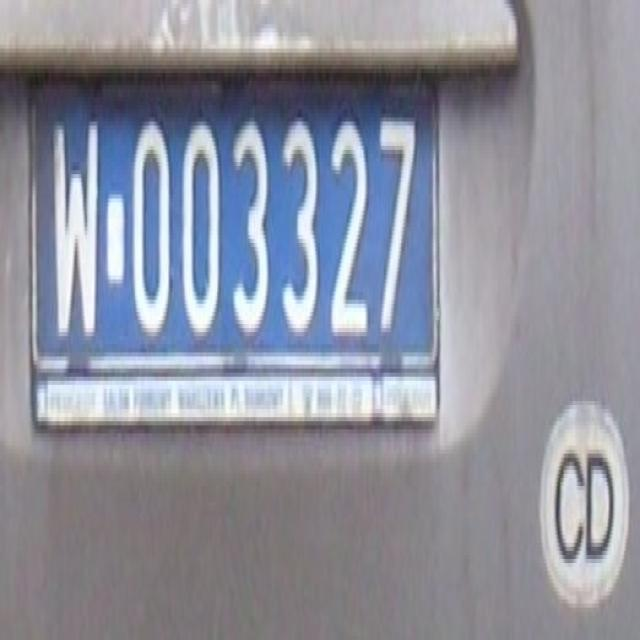pl_license_plate: (36, 85, 430, 348)
